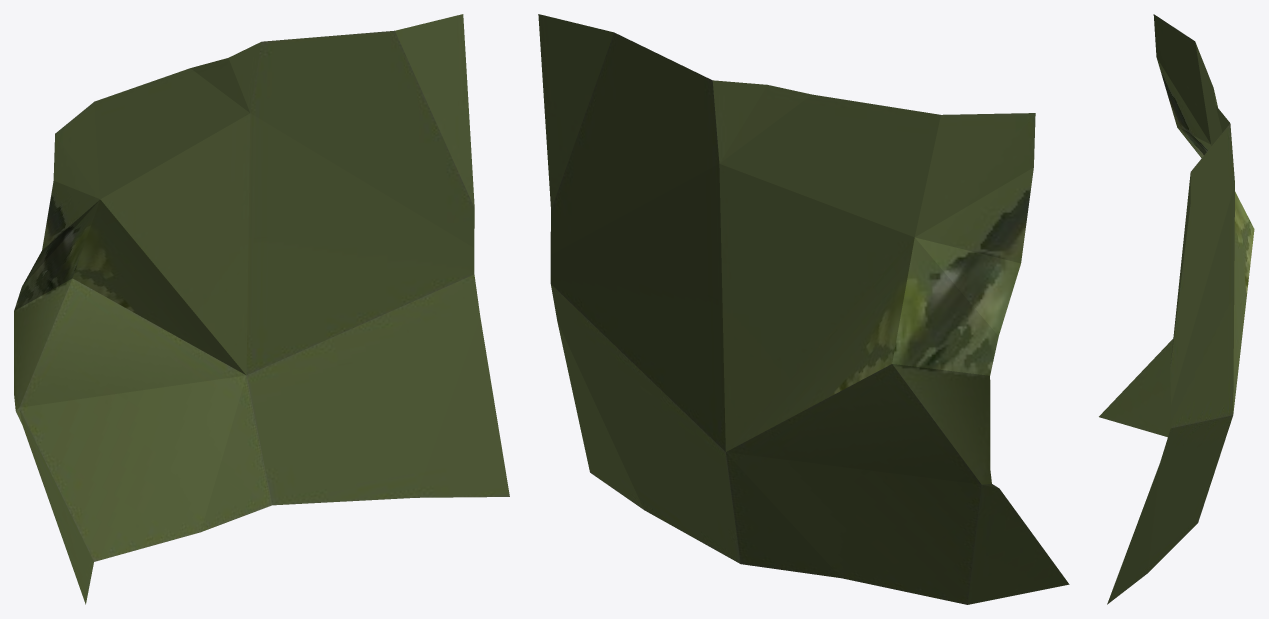
The picture shows the model from 3 angles, left to right: view 1: azimuth 30°, elevation 25°; view 2: azimuth 150°, elevation 25°; view 3: azimuth 270°, elevation 25°; orthographic projection. The views are drawn at different scales.
Size of the model in its own units: 2.95 by 2.95 by 1.03.
Materials: 3 (3 with a texture image).
